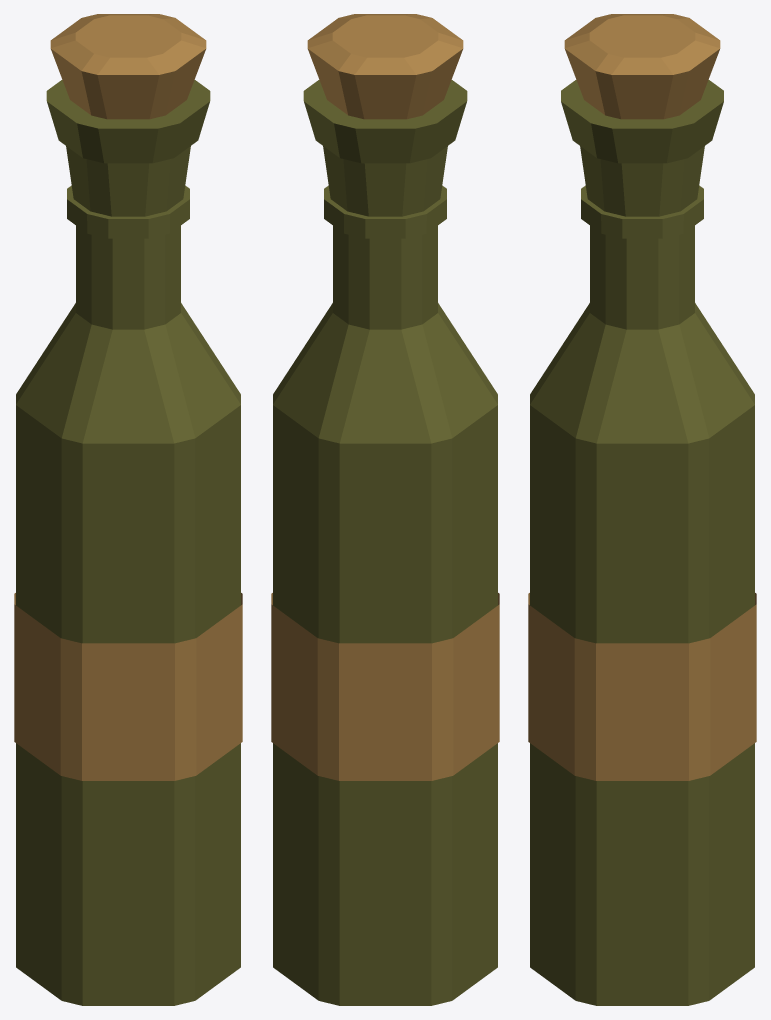
Rendered from Bouteille_huile.fbx.
3 views of the same model, side by side, from view 1: azimuth 30°, elevation 25°; view 2: azimuth 150°, elevation 25°; view 3: azimuth 270°, elevation 25° (orthographic).
Parts seen in each view (by area): view 1: BOUTEILLE DHUILE.002; view 2: BOUTEILLE DHUILE.002; view 3: BOUTEILLE DHUILE.002.
Boxes of the visible parts, bbox=[...] form: BOUTEILLE DHUILE.002: bbox=[14, 14, 242, 1005]; BOUTEILLE DHUILE.002: bbox=[271, 14, 499, 1005]; BOUTEILLE DHUILE.002: bbox=[528, 14, 756, 1005].
Size of the model in its own units: 8.09 by 39.32 by 8.79.
